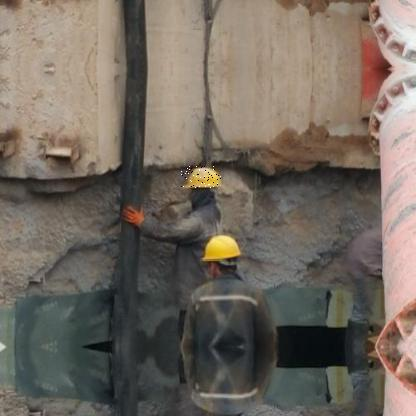safetyhelmet: (199, 236, 245, 262), (181, 166, 222, 190)
